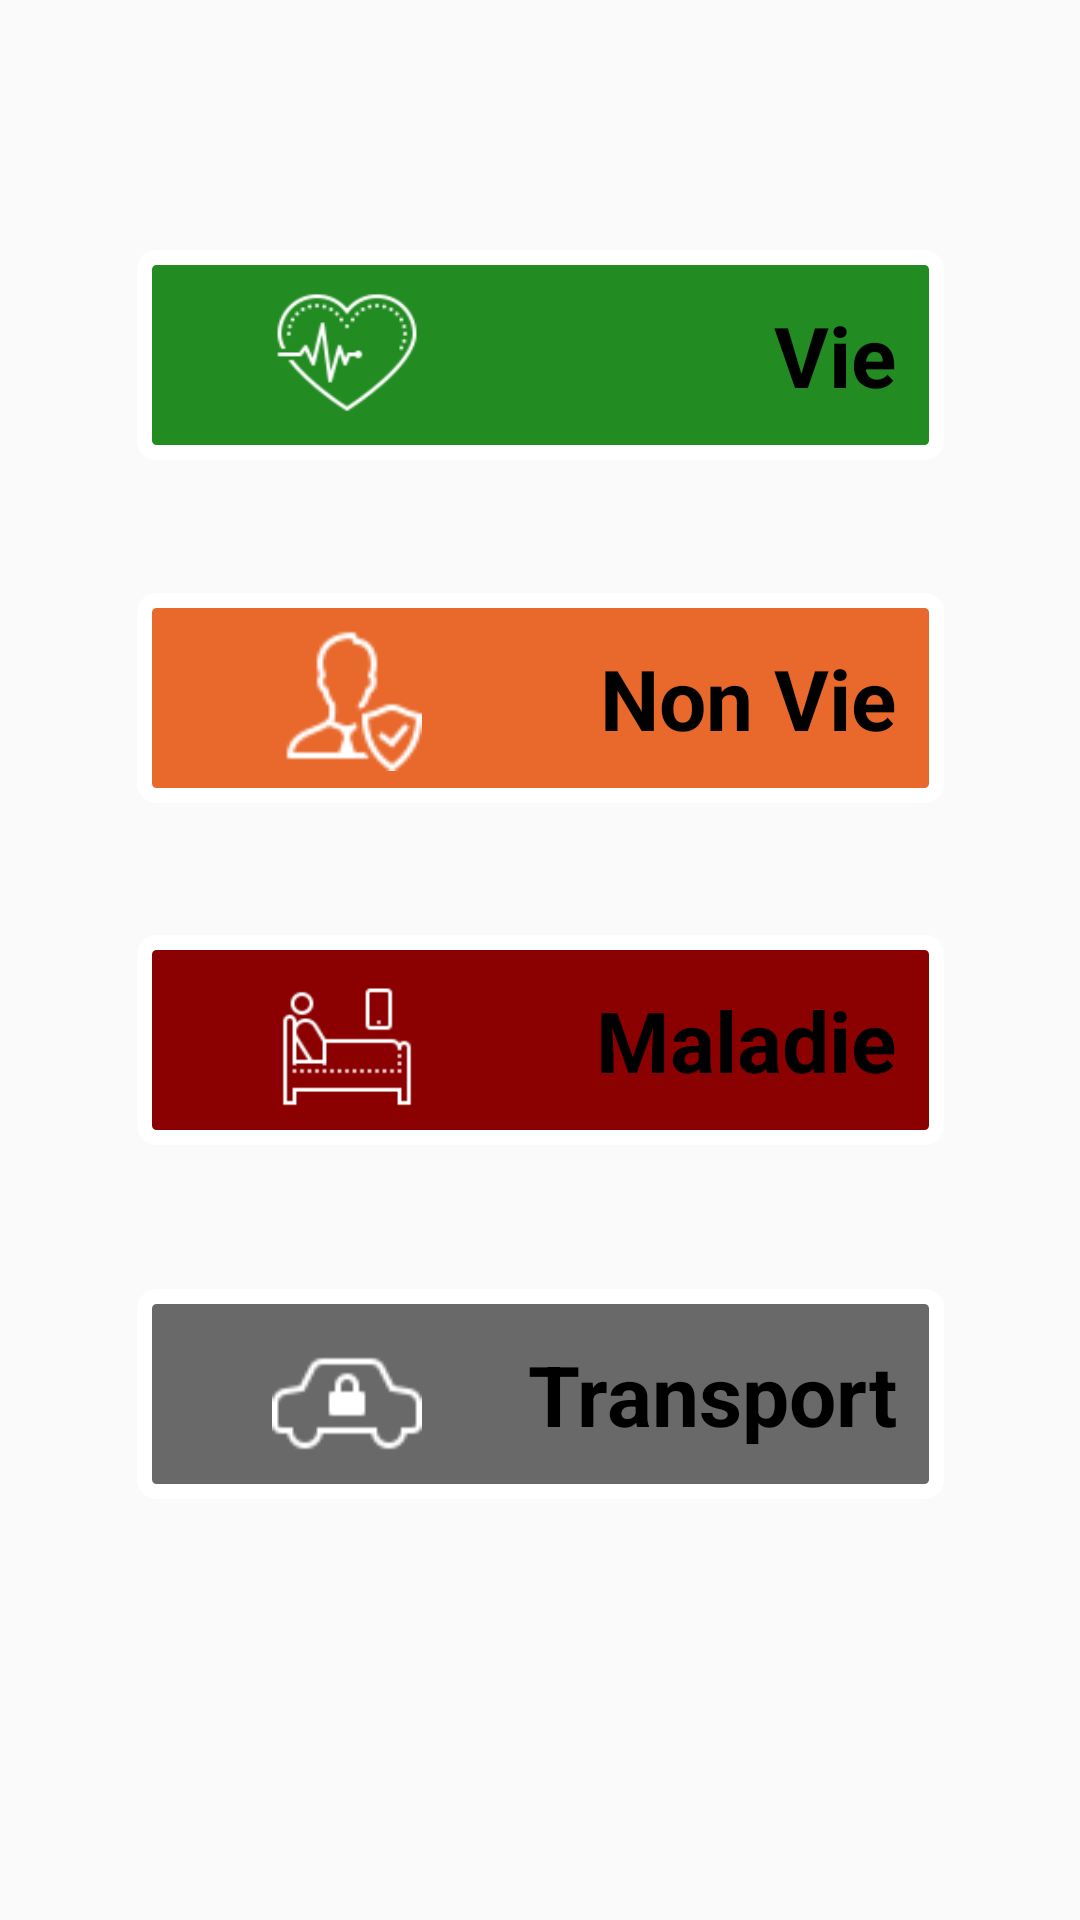

Icon click points for this 1080w x 1920h phone screenshot, format point (x, y):
health: point (347, 352)
insurance agent: point (354, 701)
nurse call: point (347, 1047)
vehicle insurance: point (347, 1403)
